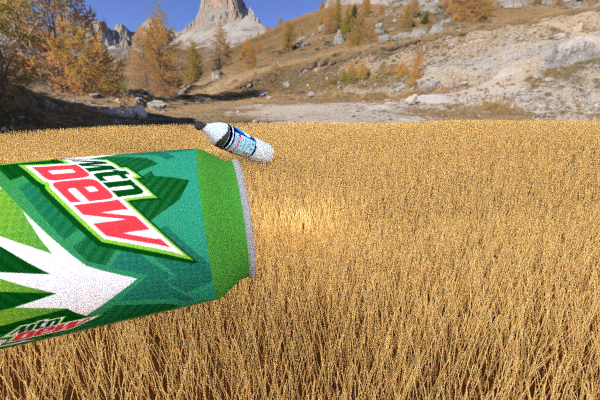Plastic Bottle: (0, 148, 255, 382), (194, 120, 274, 164)
